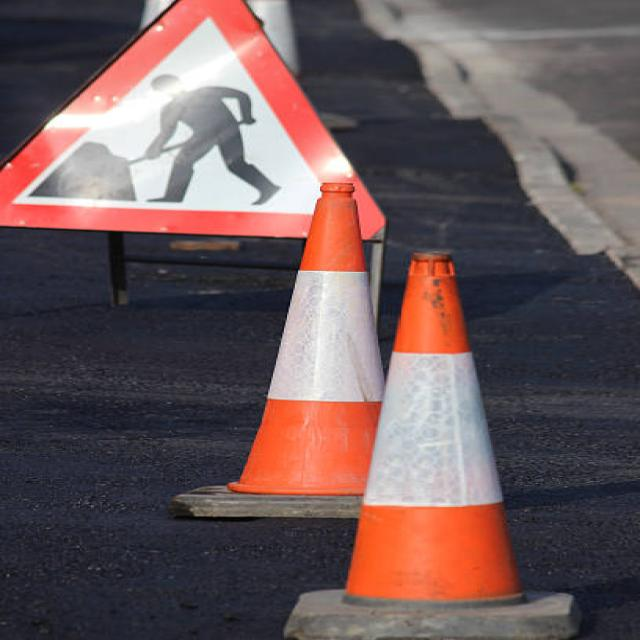Traffic Cone: (261, 219, 639, 640)
